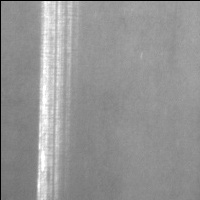scratches: (37, 2, 67, 200)
